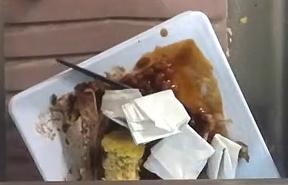beans: (119, 39, 224, 141)
